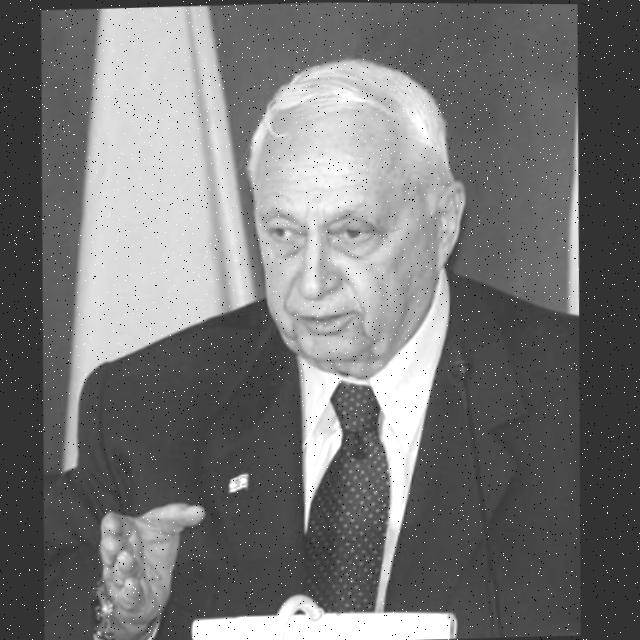face: (223, 94, 458, 367)
